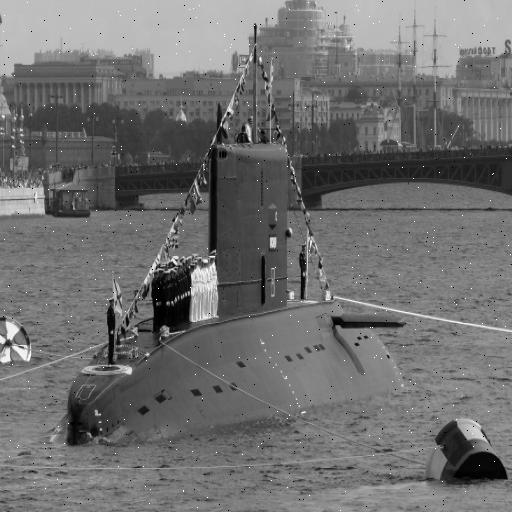submarine: (67, 158, 412, 452)
